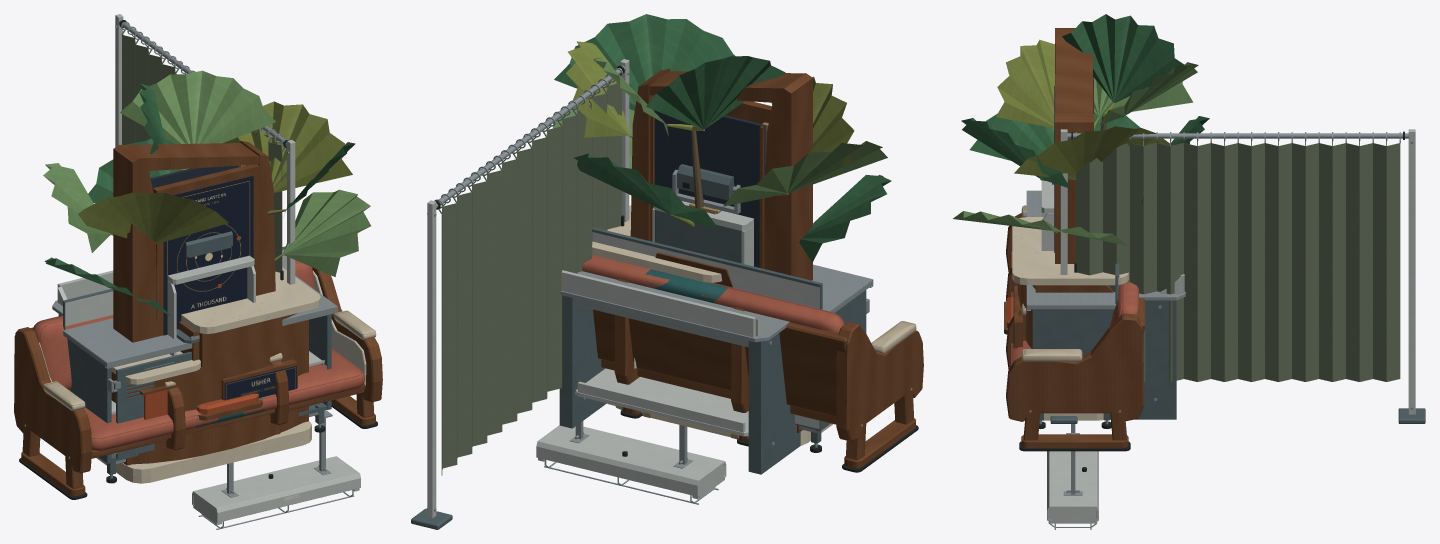
The model's file is AST-CUL-005_prototype_003.glb.
3 renders of one model, left to right at view 1: azimuth 30°, elevation 25°; view 2: azimuth 150°, elevation 25°; view 3: azimuth 270°, elevation 25°, orthographic. The views are drawn at different scales.
Visible parts, largest first — view 1: C005_P_0945, C005_P_0881, C005_P_0887, C005_P_0875, C005_P_0944, C005_P_0874, C005_P_0883, C005_P_0879, C005_P_0898, C005_P_0935, C005_P_0901, C005_P_0917 (+16 smaller); view 2: C005_P_0917, C005_P_0887, C005_P_0943, C005_P_0881, C005_P_0905, C005_P_0902, C005_P_0935, C005_P_0877, C005_P_0897, C005_P_0944, C005_P_0945, C005_P_0920 (+15 smaller); view 3: C005_P_0917, C005_P_0887, C005_P_0943, C005_P_0944, C005_P_0881, C005_P_0945, C005_P_0902, C005_P_0874, C005_P_0935, C005_P_0898, C005_P_0920, C005_P_0901 (+7 smaller).
Part boxes in pixels (x1,y1,x2,y2): C005_P_0945: (43,70,370,276); C005_P_0881: (113,140,275,342); C005_P_0887: (14,267,382,496); C005_P_0875: (111,313,308,465); C005_P_0944: (78,101,352,261); C005_P_0874: (96,267,320,483); C005_P_0883: (32,260,365,450); C005_P_0879: (163,176,253,335); C005_P_0898: (62,246,331,474); C005_P_0935: (192,456,360,524); C005_P_0901: (63,275,337,478); C005_P_0917: (121,30,284,272); C005_P_0917: (438,82,621,475); C005_P_0887: (593,309,923,468); C005_P_0943: (554,14,891,262); C005_P_0881: (630,68,812,280); C005_P_0905: (561,270,768,436); C005_P_0902: (559,295,800,474); C005_P_0935: (536,425,726,499); C005_P_0877: (654,110,765,267); C005_P_0897: (614,278,748,442); C005_P_0944: (566,41,854,227); C005_P_0945: (545,57,887,206); C005_P_0920: (427,59,629,518); C005_P_0917: (1076,141,1400,381); C005_P_0887: (1006,213,1145,448); C005_P_0943: (961,14,1209,203); C005_P_0944: (996,39,1172,234); C005_P_0881: (1055,28,1093,263); C005_P_0945: (953,62,1198,245); C005_P_0902: (1110,300,1176,419); C005_P_0874: (1012,217,1128,420); C005_P_0935: (1047,451,1098,523); C005_P_0898: (1032,263,1119,420); C005_P_0920: (1060,129,1415,414); C005_P_0901: (1024,190,1116,424).
Bounding box in the file's own units: 2.4 × 3.14 × 3.15.
Materials: 84 (83 with a texture image).
